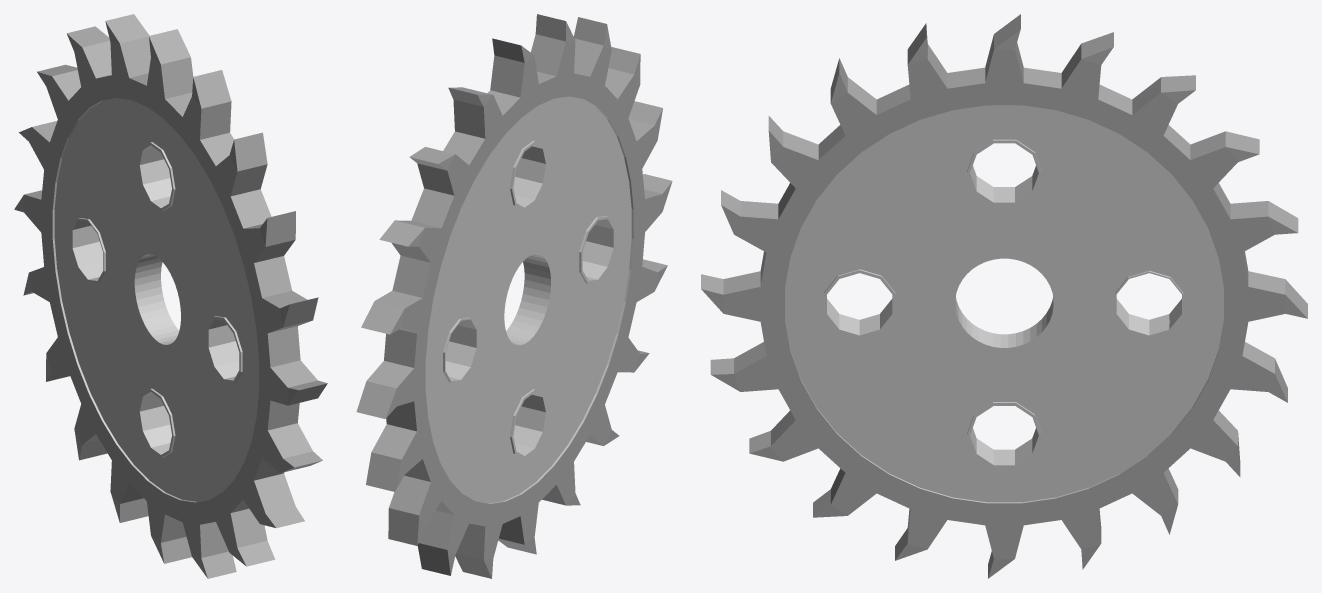
File: saw_01.fbx
3 views of the same model, side by side, from view 1: azimuth 30°, elevation 25°; view 2: azimuth 150°, elevation 25°; view 3: azimuth 270°, elevation 25° (orthographic). The views are drawn at different scales.
Parts seen in each view (by area): view 1: polySurface2; view 2: polySurface2; view 3: polySurface2.
Part boxes in pixels (x1,y1,x2,y2): polySurface2: (14,14,327,578); polySurface2: (356,14,672,578); polySurface2: (701,14,1307,578).
Size of the model in its own units: 0.1501 by 2.46 by 2.46.
Materials: 1 (1 with a texture image).
